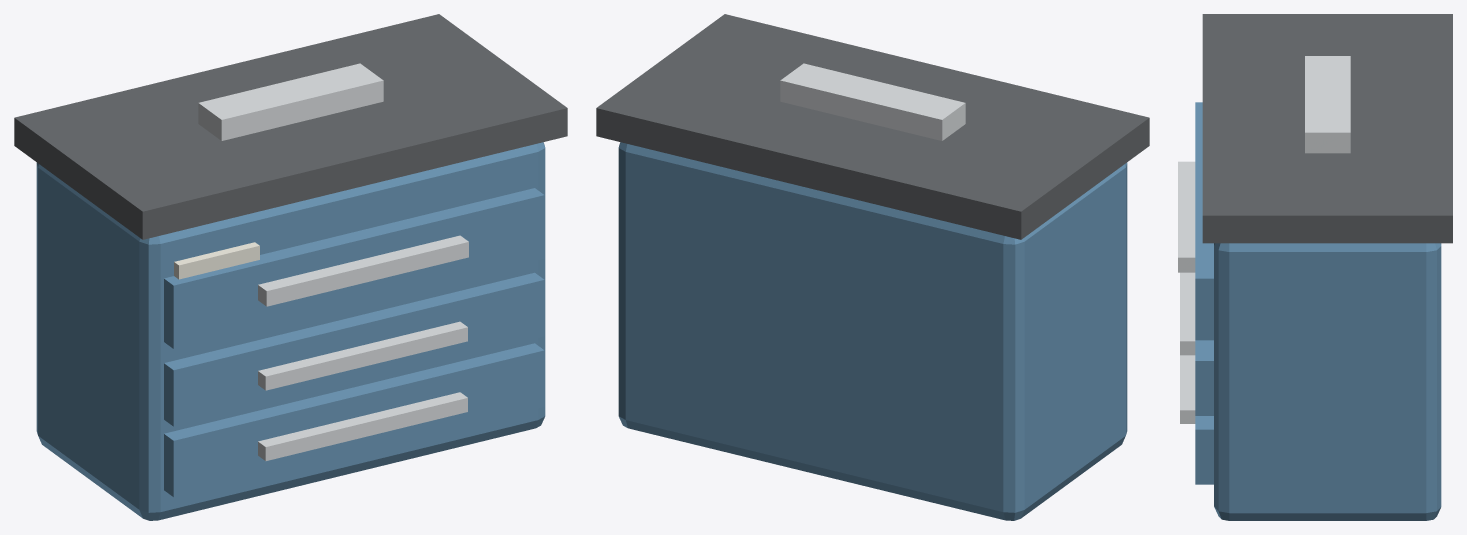
Rendered from bench-top-tool-chest.glb.
3 renders of one model, left to right at view 1: azimuth 30°, elevation 25°; view 2: azimuth 150°, elevation 25°; view 3: azimuth 270°, elevation 25°, orthographic. The views are drawn at different scales.
Visible parts, largest first — view 1: machine-shop-and-factory-hall-tool-chest, chest-drawer/blue, chest-drawer/steel; view 2: machine-shop-and-factory-hall-tool-chest; view 3: machine-shop-and-factory-hall-tool-chest, chest-drawer/blue, chest-drawer/steel.
Part boxes in pixels (left/top/right/bottom): machine-shop-and-factory-hall-tool-chest: left=14, top=14, right=567, bottom=520; chest-drawer/blue: left=164, top=188, right=544, bottom=348; chest-drawer/steel: left=258, top=235, right=468, bottom=306; machine-shop-and-factory-hall-tool-chest: left=596, top=14, right=1149, bottom=520; machine-shop-and-factory-hall-tool-chest: left=1180, top=14, right=1452, bottom=520; chest-drawer/blue: left=1195, top=102, right=1213, bottom=340; chest-drawer/steel: left=1178, top=161, right=1195, bottom=272.
Bounding box in the file's own units: 0.63 × 0.49 × 0.3625.
